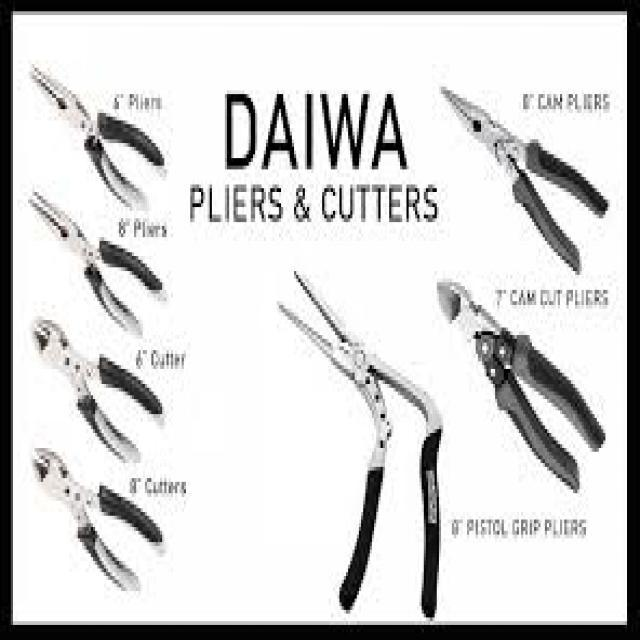pliers: (276, 270, 456, 630), (427, 267, 608, 502), (432, 66, 618, 282), (19, 438, 175, 600), (31, 42, 172, 216), (26, 314, 174, 478), (24, 190, 172, 346)
